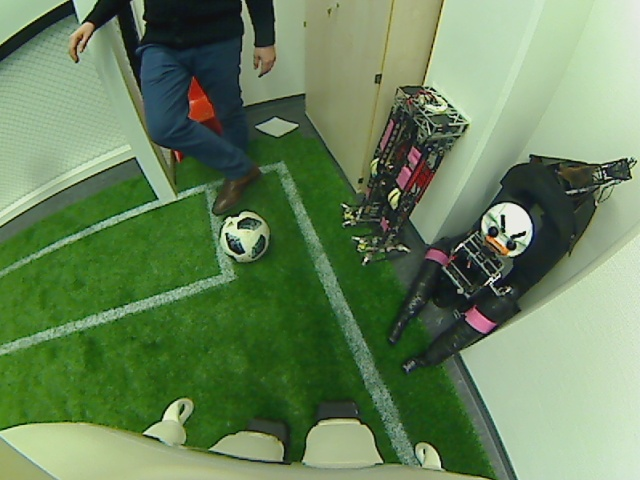ball: (219, 212, 271, 261)
